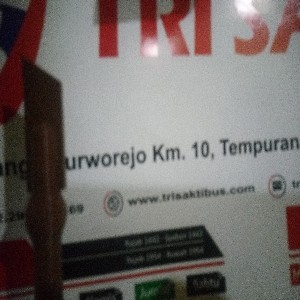cutter: (18, 55, 67, 300)
